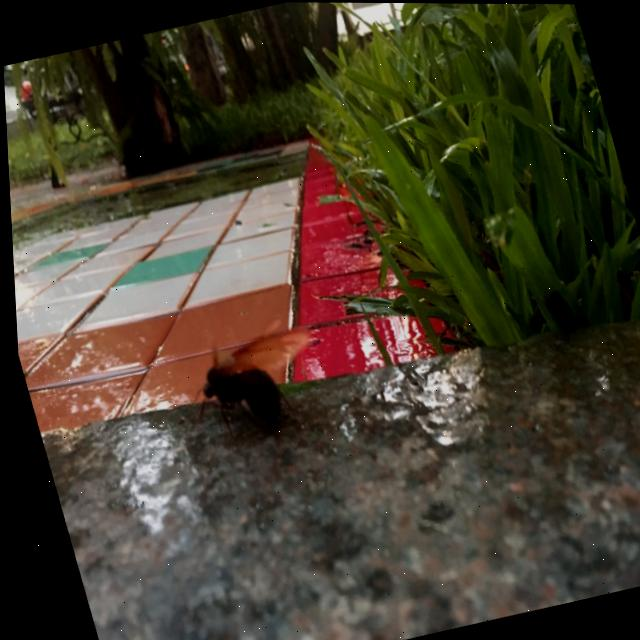Alive-Female-Alate: (159, 308, 335, 460)
